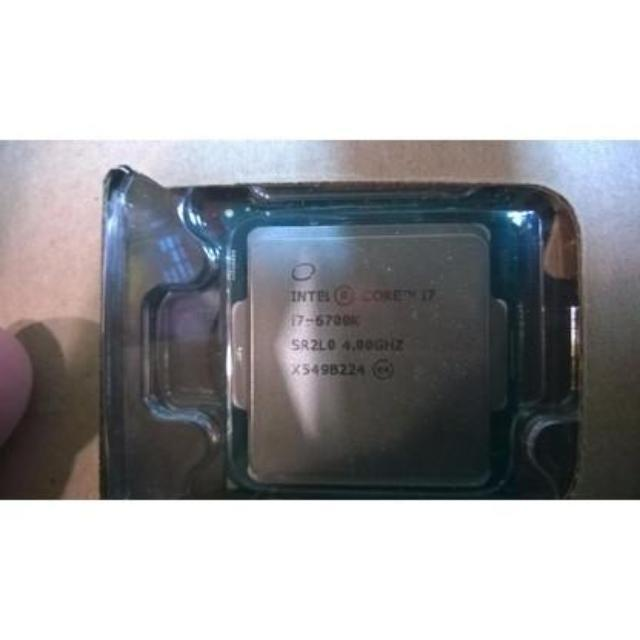CPU: (225, 203, 512, 494)
